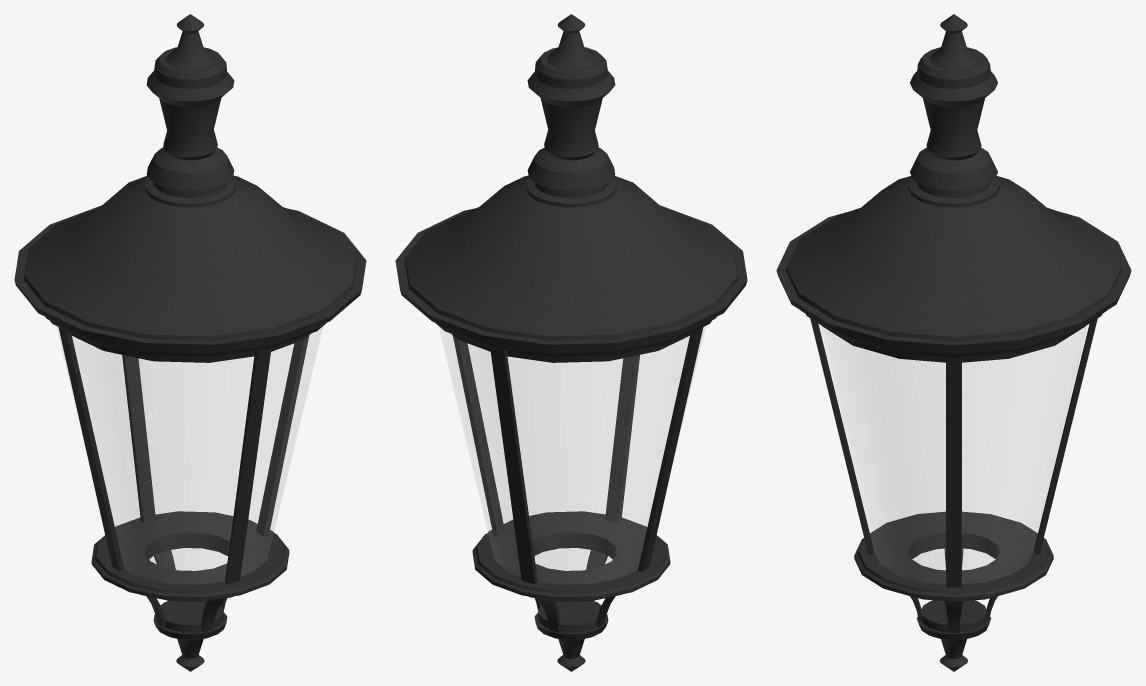
File: Park_Crown.glb
The picture shows the model from 3 angles, left to right: view 1: azimuth 30°, elevation 25°; view 2: azimuth 150°, elevation 25°; view 3: azimuth 270°, elevation 25°; orthographic projection.
Parts seen in each view (by area): view 1: Schirm und Fuss 16 Segmente, Glas, Schirmstreben, Fussstreben; view 2: Schirm und Fuss 16 Segmente, Glas, Schirmstreben, Fussstreben; view 3: Schirm und Fuss 16 Segmente, Glas, Schirmstreben, Fussstreben.
Boxes of the visible parts, x1,y1,x2,y2 form: Schirm und Fuss 16 Segmente: [14, 14, 366, 671]; Glas: [56, 326, 322, 583]; Schirmstreben: [58, 327, 309, 584]; Fussstreben: [146, 550, 227, 632]; Schirm und Fuss 16 Segmente: [395, 14, 747, 671]; Glas: [439, 326, 705, 583]; Schirmstreben: [453, 327, 703, 583]; Fussstreben: [534, 550, 615, 632]; Schirm und Fuss 16 Segmente: [776, 14, 1131, 671]; Glas: [820, 325, 1087, 583]; Schirmstreben: [810, 318, 1097, 587]; Fussstreben: [910, 548, 997, 633].
Size of the model in its own units: 0.4517 by 0.9234 by 0.4517.
2 materials, 1 textured.
